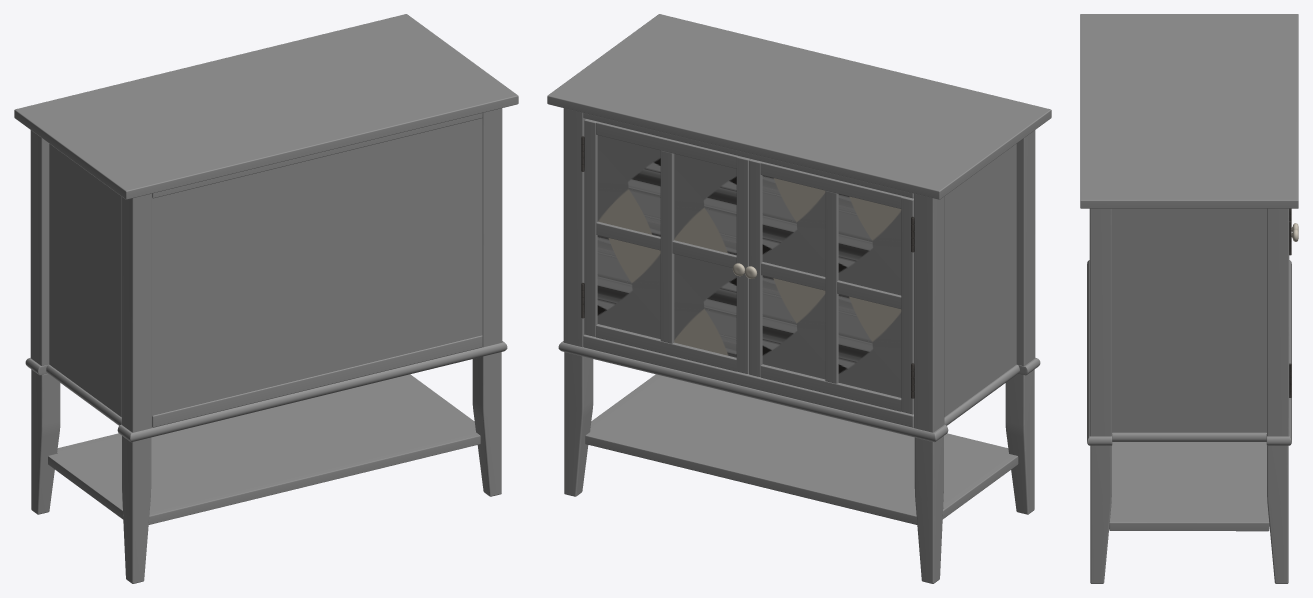
File: abo_B07G4ZXLC8.glb
3 renders of one model, left to right at view 1: azimuth 30°, elevation 25°; view 2: azimuth 150°, elevation 25°; view 3: azimuth 270°, elevation 25°, orthographic. The views are drawn at different scales.
Parts seen in each view (by area): view 1: RootNode; view 2: RootNode; view 3: RootNode.
Part boxes in pixels (x1,y1,x2,y2): RootNode: [14, 14, 518, 583]; RootNode: [547, 14, 1051, 583]; RootNode: [1080, 14, 1298, 583].
Bounding box in the file's own units: 0.801 × 0.7796 × 0.396.
Materials: 1 (1 with a texture image).
